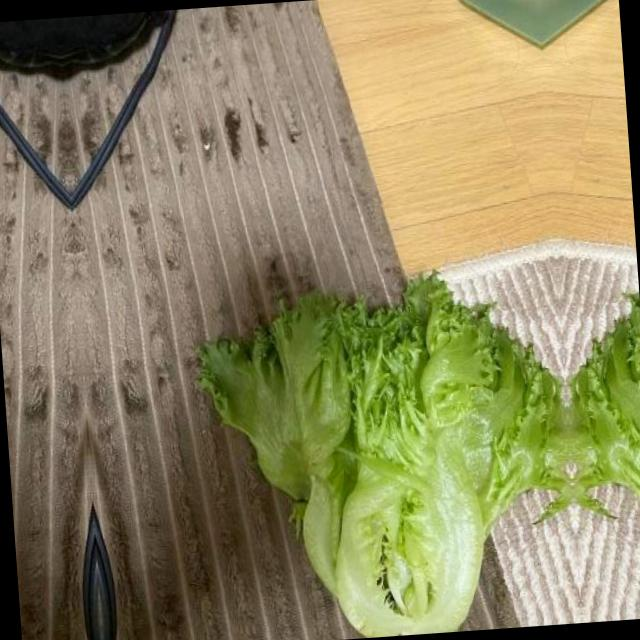healthy: (183, 254, 582, 640), (556, 248, 640, 622)
